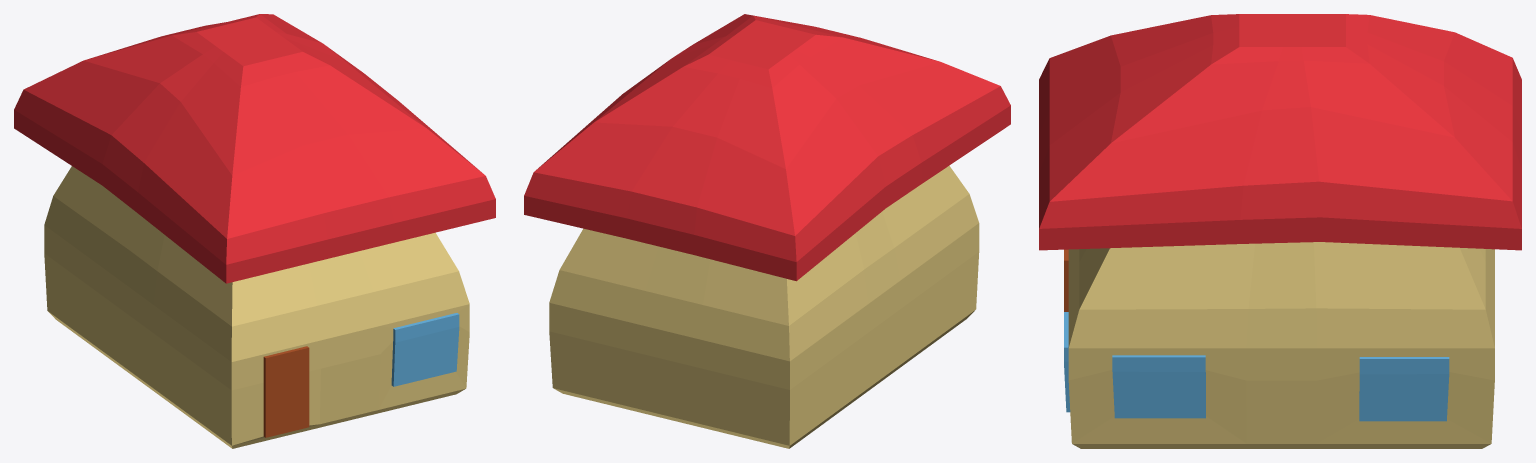
The model's file is MushroomHouseModel01_EmCoo.fbx.
The picture shows the model from 3 angles, left to right: view 1: azimuth 30°, elevation 25°; view 2: azimuth 150°, elevation 25°; view 3: azimuth 270°, elevation 25°; orthographic projection. The views are drawn at different scales.
Parts seen in each view (by area): view 1: 1_mushroom_house; view 2: 1_mushroom_house; view 3: 1_mushroom_house.
Boxes of the visible parts, box(x1,y1,x2,y2) form: 1_mushroom_house: box(14, 14, 495, 448); 1_mushroom_house: box(524, 14, 1010, 448); 1_mushroom_house: box(1039, 14, 1521, 448).
Bounding box in the file's own units: 748 × 827 × 1019.
